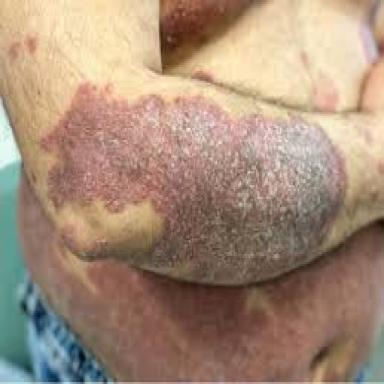Psoriasis: (21, 182, 384, 381), (43, 83, 348, 283), (161, 0, 227, 53), (62, 224, 107, 258), (191, 69, 215, 82), (24, 33, 38, 55), (7, 42, 22, 62)
